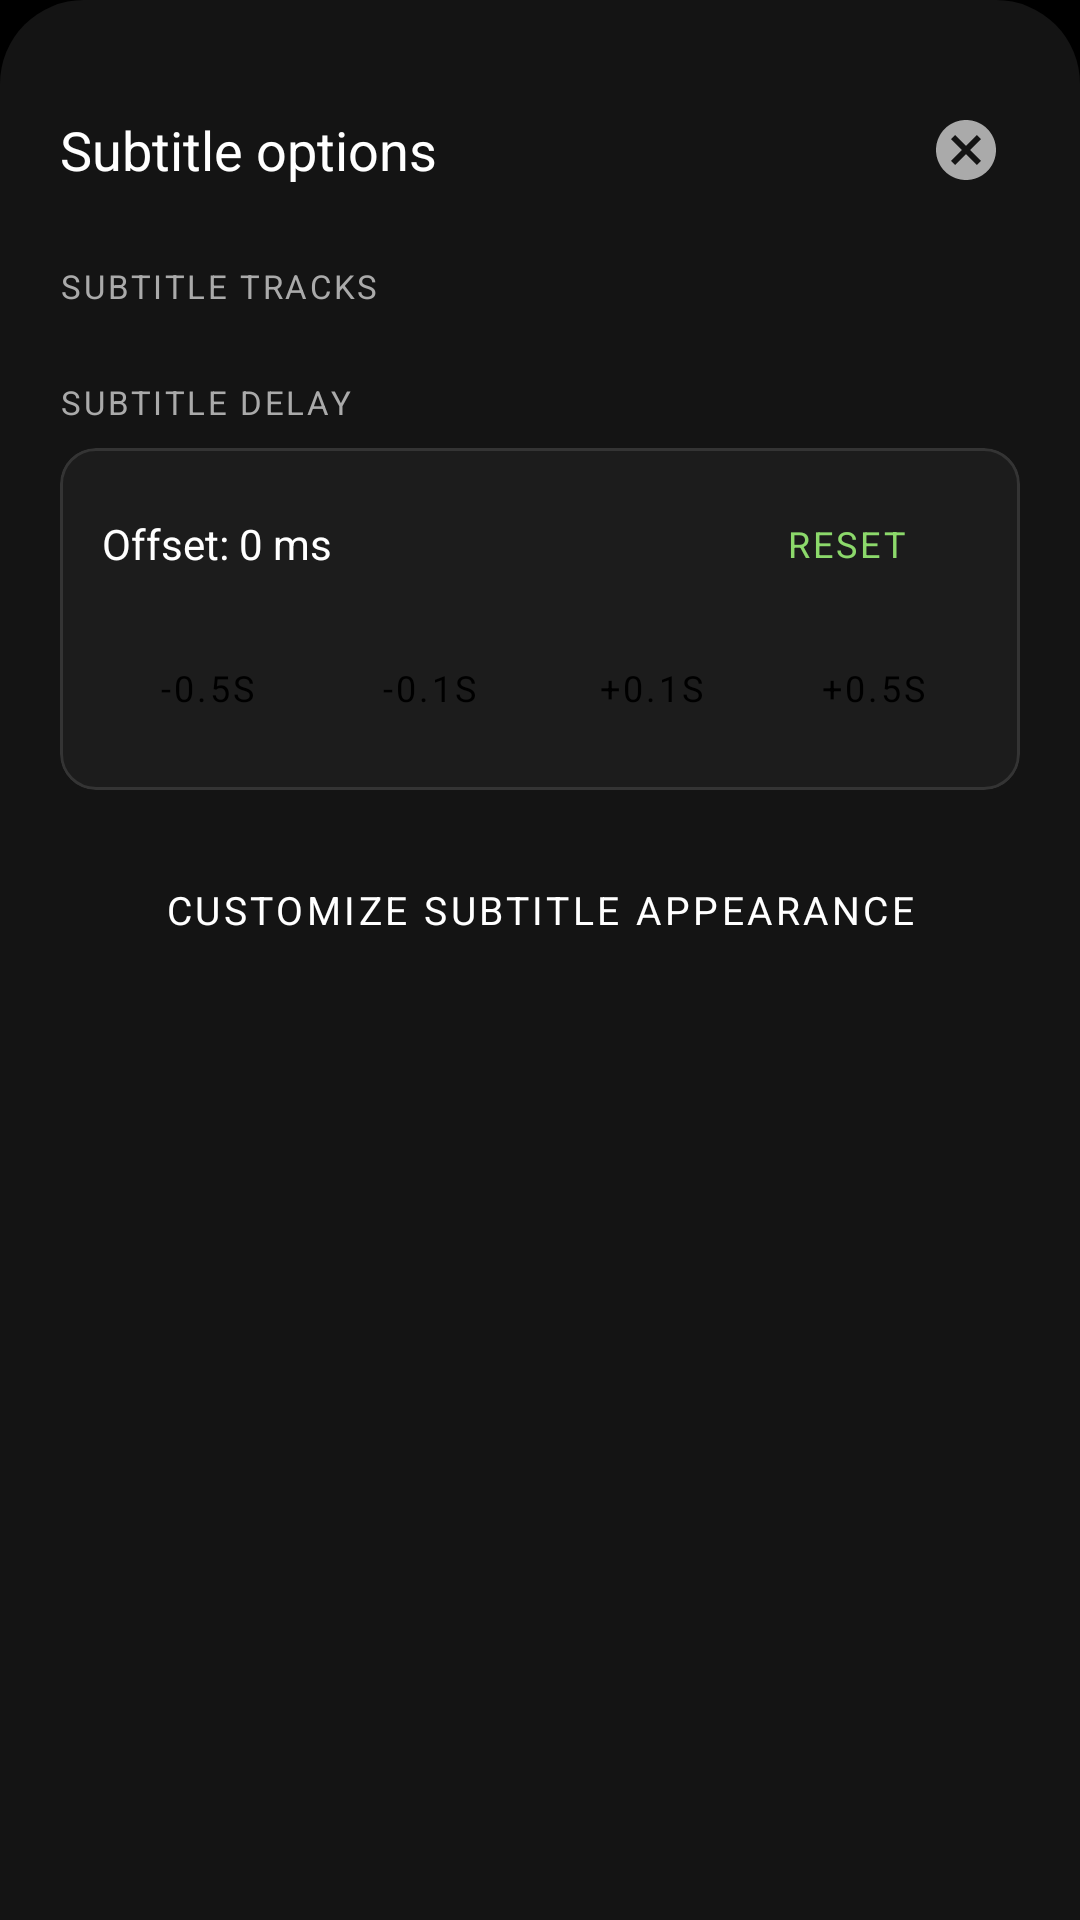

Named icons in this screenshot (1080 × 1920) and their bounding boxes, (x1, y1, x2, y2):
Close: (936, 120, 996, 180)
